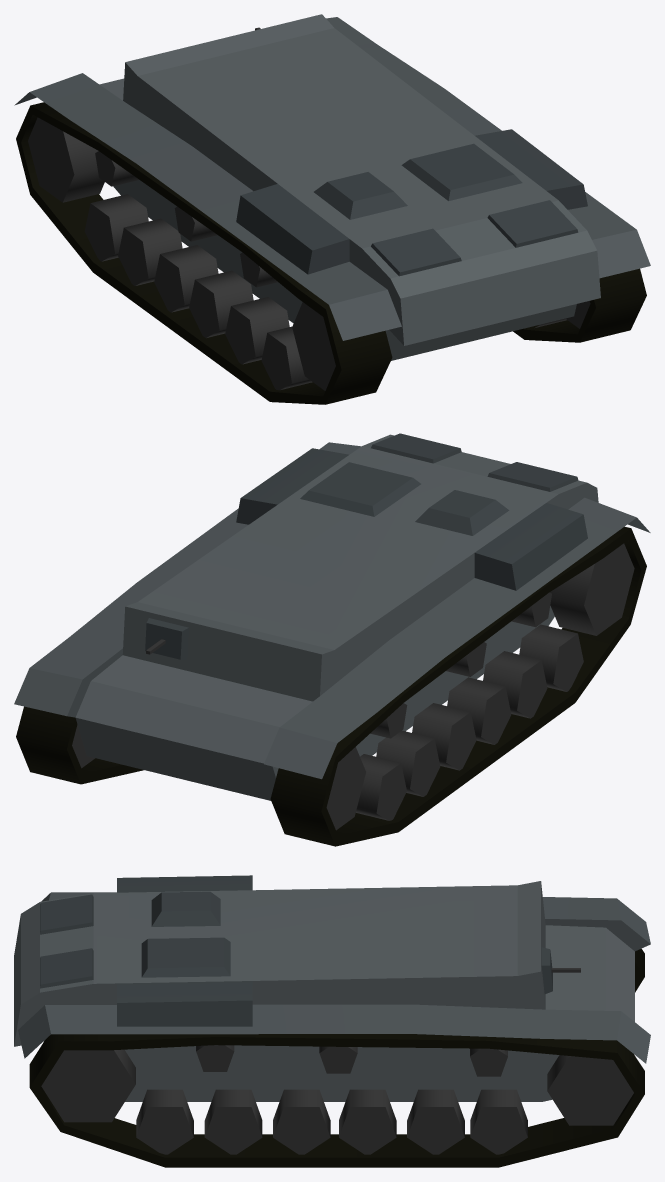
File: tank_hull.obj
3 views of the same model, one above another, from view 1: azimuth 30°, elevation 25°; view 2: azimuth 150°, elevation 25°; view 3: azimuth 270°, elevation 25° (orthographic). The views are drawn at different scales.
Visible parts, largest first — view 1: Hull_Cube_001; view 2: Hull_Cube_001; view 3: Hull_Cube_001.
Part boxes in pixels (bbox=[...]): Hull_Cube_001: bbox=[14, 14, 650, 404]; Hull_Cube_001: bbox=[14, 433, 650, 846]; Hull_Cube_001: bbox=[14, 875, 650, 1167].
Size of the model in its own units: 2.25 by 1.28 by 4.27.
